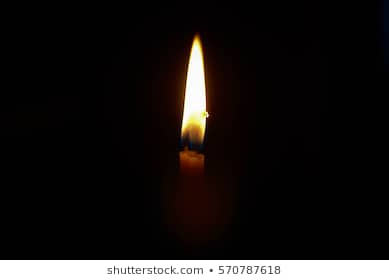Fire: (183, 34, 210, 140)
